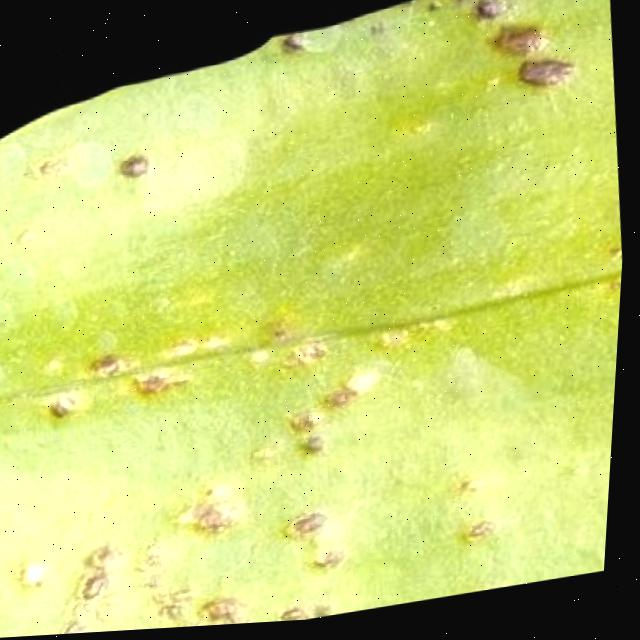mite: (443, 467, 509, 603), (490, 19, 576, 106), (282, 504, 352, 583), (79, 541, 123, 605), (109, 143, 156, 190), (291, 511, 333, 543), (462, 520, 500, 552), (83, 570, 115, 603), (117, 150, 150, 181), (470, 0, 502, 28)
